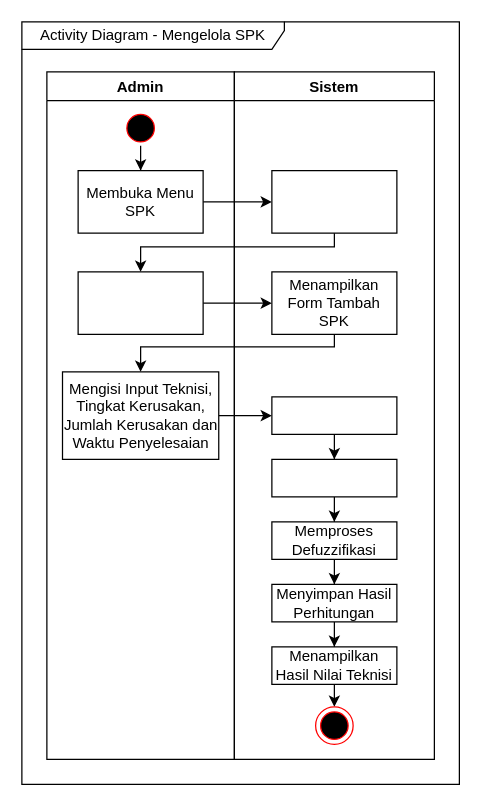
This 481x806 diagram has some shape labels left out. Here are the shapes that lost their labels. From the top down, the box of each, then its label:
(271, 169, 397, 233): Menampilkan Halaman SPK
(77, 271, 203, 334): Menekan Tombol Tambah SPK
(271, 396, 397, 434): Memproses Fuzzifikasi
(271, 458, 397, 497): Memproses Inferensi
